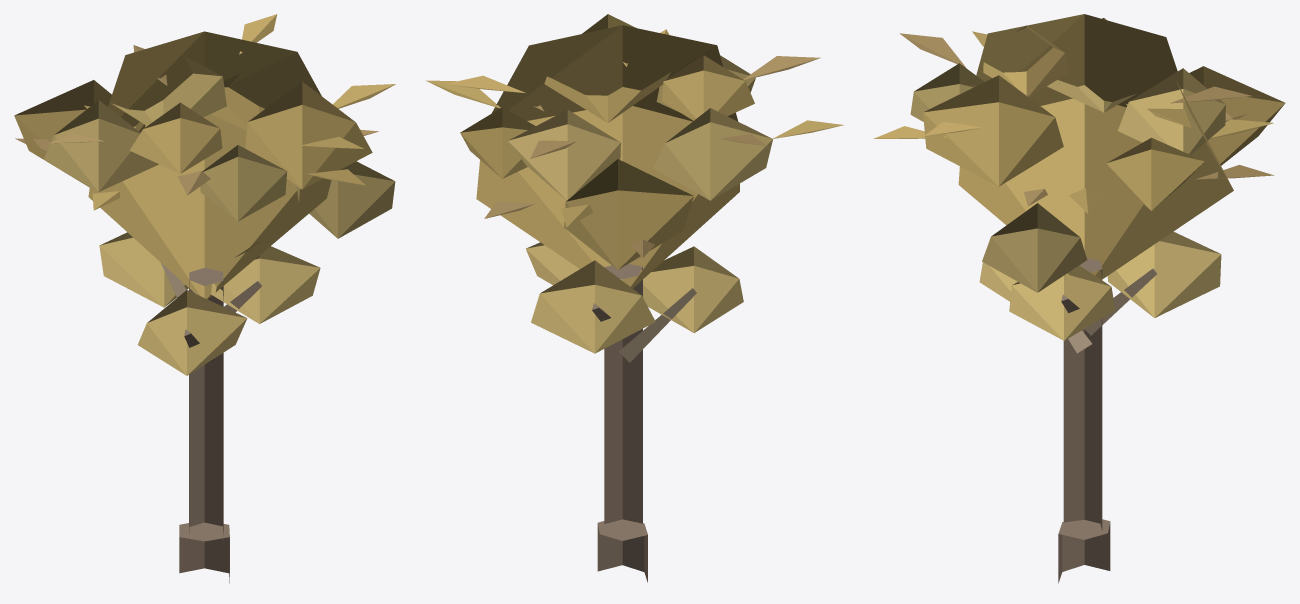
The model's file is shu.yinxing@subadult__autumn.glb.
3 renders of one model, left to right at view 1: azimuth 30°, elevation 25°; view 2: azimuth 150°, elevation 25°; view 3: azimuth 270°, elevation 25°, orthographic. The views are drawn at different scales.
Parts seen in each view (by area): view 1: shu.yinxing@subadult__autumn; view 2: shu.yinxing@subadult__autumn; view 3: shu.yinxing@subadult__autumn.
Part boxes in pixels (left/top/right/bottom): shu.yinxing@subadult__autumn: left=14, top=14, right=395, bottom=583; shu.yinxing@subadult__autumn: left=426, top=14, right=843, bottom=582; shu.yinxing@subadult__autumn: left=873, top=14, right=1285, bottom=583.
Size of the model in its own units: 5.46 by 7.89 by 5.26.
